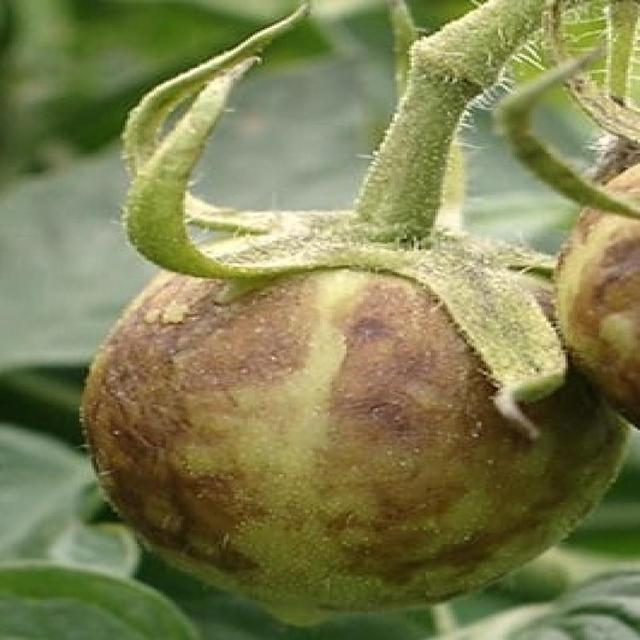Spotted wilt Virus Fruit: (54, 184, 400, 279)
